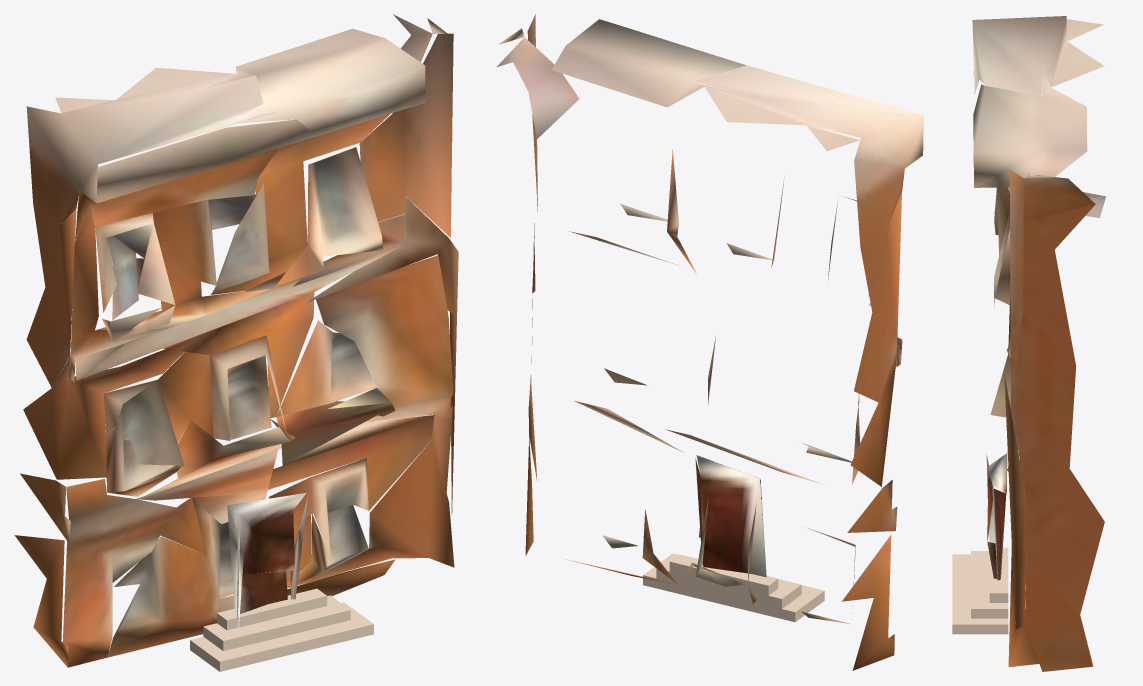
The model's file is row_far.glb.
3 renders of one model, left to right at view 1: azimuth 30°, elevation 25°; view 2: azimuth 150°, elevation 25°; view 3: azimuth 270°, elevation 25°, orthographic. The views are drawn at different scales.
Parts seen in each view (by area): view 1: tripo_node_01a21d10-2419-755a-9ff6-daed9d414377; view 2: tripo_node_01a21d10-2419-755a-9ff6-daed9d414377; view 3: tripo_node_01a21d10-2419-755a-9ff6-daed9d414377.
Part boxes in pixels (box(x1,y1,x2,y2)): tripo_node_01a21d10-2419-755a-9ff6-daed9d414377: box(14, 14, 458, 671); tripo_node_01a21d10-2419-755a-9ff6-daed9d414377: box(497, 14, 923, 670); tripo_node_01a21d10-2419-755a-9ff6-daed9d414377: box(952, 16, 1105, 671).
Bounding box in the file's own units: 7.06 × 9.8 × 3.02.
Materials: 1 (1 with a texture image).
